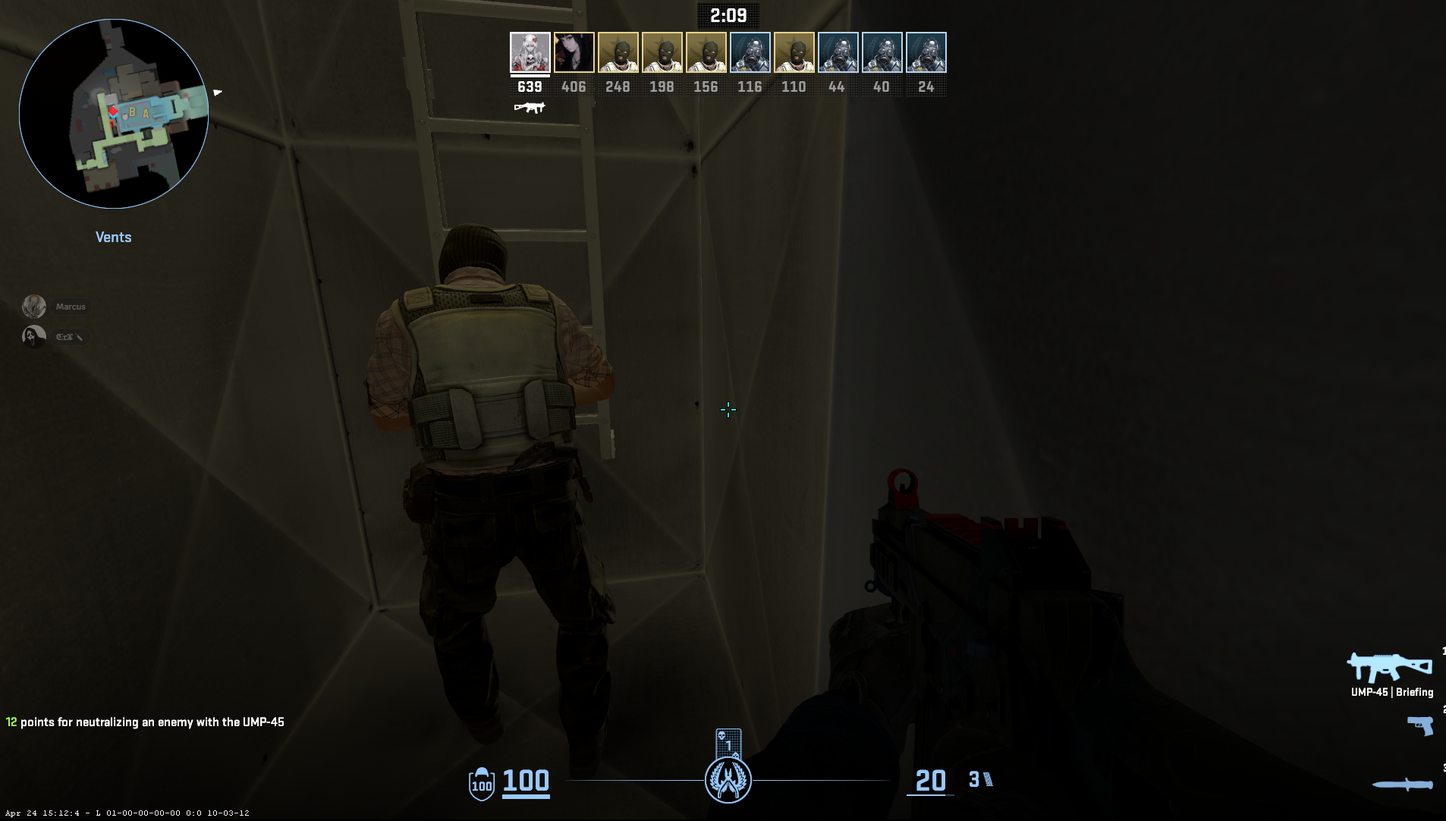T: (363, 222, 617, 750)
